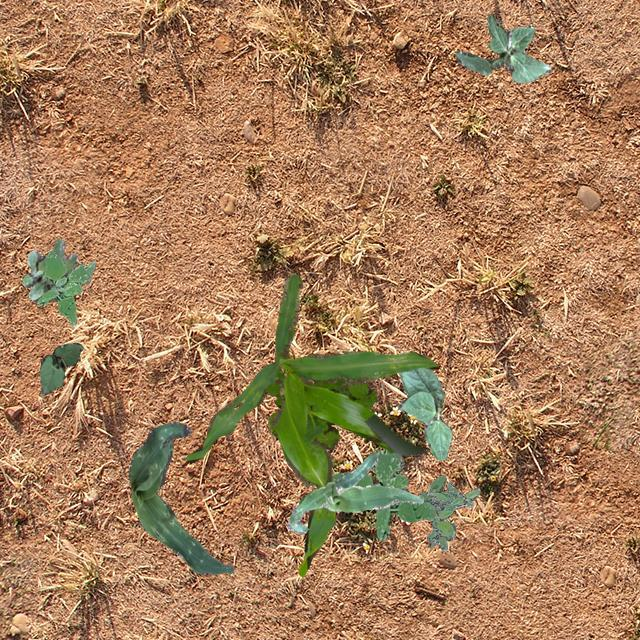crop: (185, 272, 438, 576), (128, 422, 232, 574), (286, 452, 422, 532), (454, 14, 550, 82), (398, 366, 452, 459), (38, 342, 82, 394)
weed: (332, 446, 438, 540), (266, 366, 374, 448), (419, 474, 478, 550), (36, 250, 94, 324), (22, 237, 76, 300)
